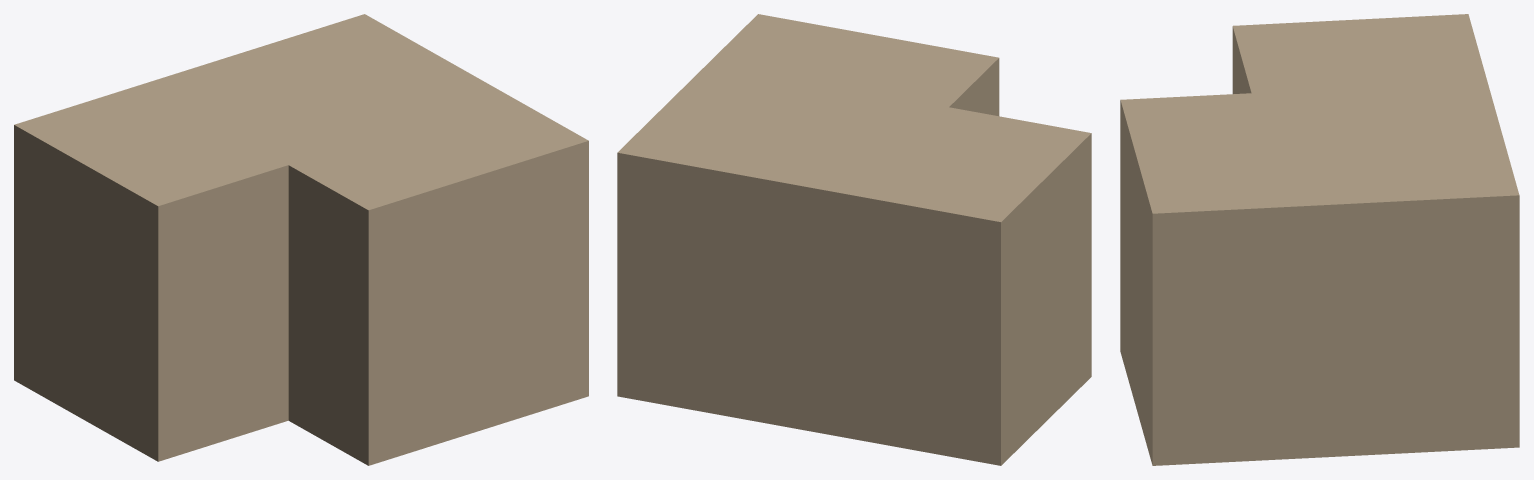
The model's file is bld_101562363.dae.
3 views of the same model, side by side, from view 1: azimuth 30°, elevation 25°; view 2: azimuth 150°, elevation 25°; view 3: azimuth 270°, elevation 25° (orthographic). The views are drawn at different scales.
Parts seen in each view (by area): view 1: bld_101562363; view 2: bld_101562363; view 3: bld_101562363.
Part boxes in pixels (left/top/right/bottom): bld_101562363: left=14, top=14, right=588, bottom=465; bld_101562363: left=617, top=14, right=1091, bottom=465; bld_101562363: left=1120, top=14, right=1519, bottom=465.
Size of the model in its own units: 13.59 by 11.47 by 8.
